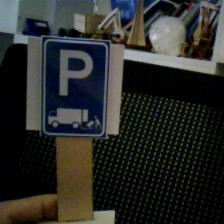load: (40, 41, 110, 130)
